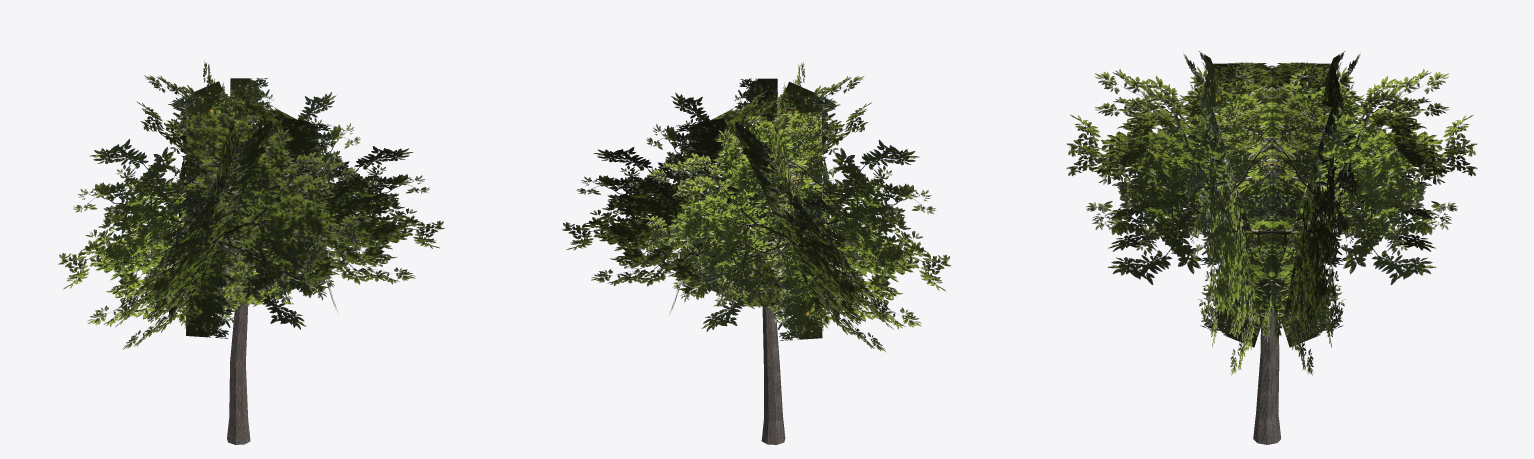
The model's file is Pohon 2.fbx.
3 views of the same model, side by side, from view 1: azimuth 30°, elevation 25°; view 2: azimuth 150°, elevation 25°; view 3: azimuth 270°, elevation 25° (orthographic). The views are drawn at different scales.
Parts seen in each view (by area): view 1: Plane, Cylinder; view 2: Plane, Cylinder; view 3: Plane, Cylinder.
Part boxes in pixels (box(x1,y1,x2,y2)): Plane: box(58, 61, 444, 349); Cylinder: box(227, 252, 250, 444); Plane: box(562, 61, 950, 352); Cylinder: box(757, 237, 785, 444); Plane: box(1066, 51, 1477, 375); Cylinder: box(1253, 160, 1281, 444).
Size of the model in its own units: 797 by 721 by 791.
